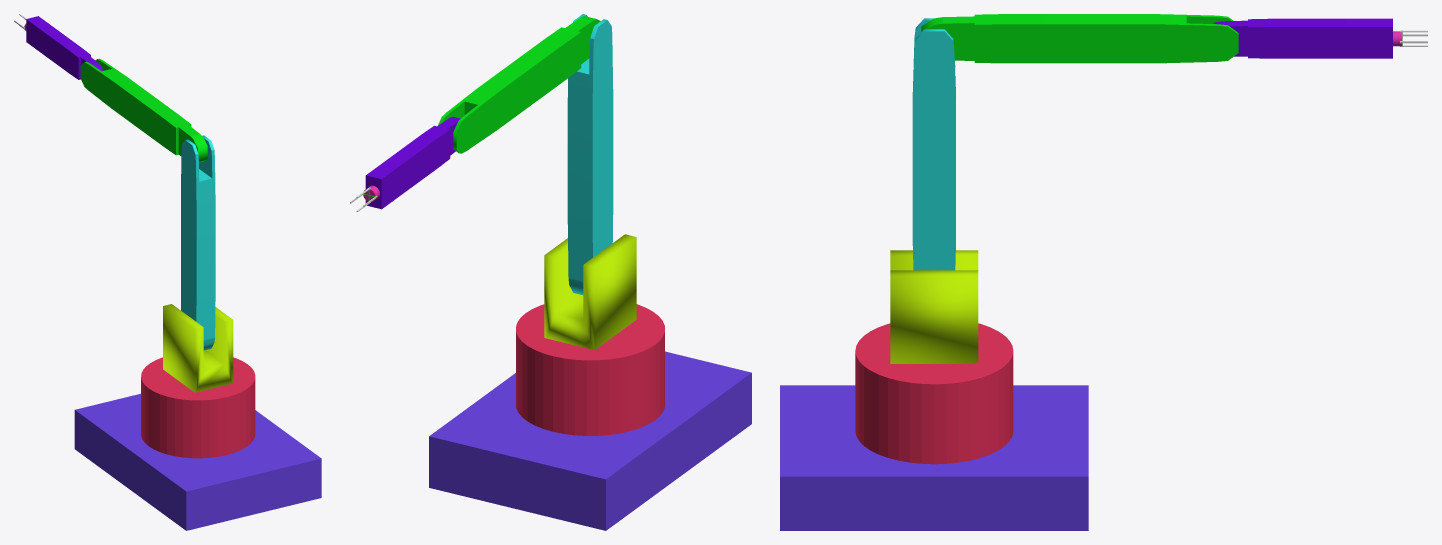
File: RobotArmNew.fbx
The picture shows the model from 3 angles, left to right: view 1: azimuth 30°, elevation 25°; view 2: azimuth 150°, elevation 25°; view 3: azimuth 270°, elevation 25°; orthographic projection. The views are drawn at different scales.
Parts seen in each view (by area): view 1: Base_Cube, Rotating_Base, Pole_1, Pole_2, Pole_3; view 2: Base_Cube, Rotating_Base, Pole_1, Pole_2, Pole_3; view 3: Base_Cube, Rotating_Base, Pole_2, Pole_1, Pole_3.
Boxes of the visible parts, x1,y1,x2,y2 form: Base_Cube: (74, 393, 321, 530); Rotating_Base: (141, 304, 255, 458); Pole_1: (181, 135, 215, 350); Pole_2: (80, 58, 207, 162); Pole_3: (26, 16, 103, 79); Base_Cube: (429, 351, 751, 530); Rotating_Base: (516, 234, 664, 435); Pole_1: (567, 14, 613, 294); Pole_2: (438, 16, 600, 153); Pole_3: (365, 116, 460, 209); Base_Cube: (780, 385, 1088, 530); Rotating_Base: (855, 250, 1013, 464); Pole_2: (921, 14, 1238, 63); Pole_1: (912, 18, 955, 270); Pole_3: (1213, 18, 1392, 58).
Bounding box in the file's own units: 572 × 1362 × 1715.
